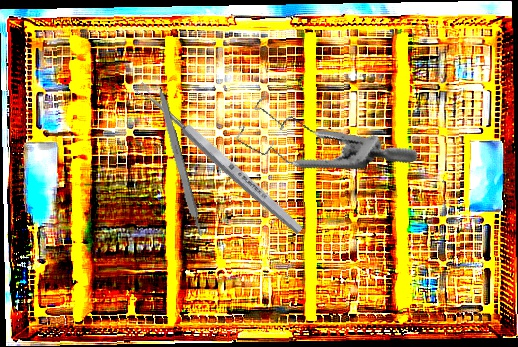Scalpel Handle: (154, 86, 204, 238)
Speculum: (224, 53, 420, 217)
Surgical Spoon: (133, 80, 306, 237)
